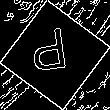P_S: (33, 27, 77, 83)
